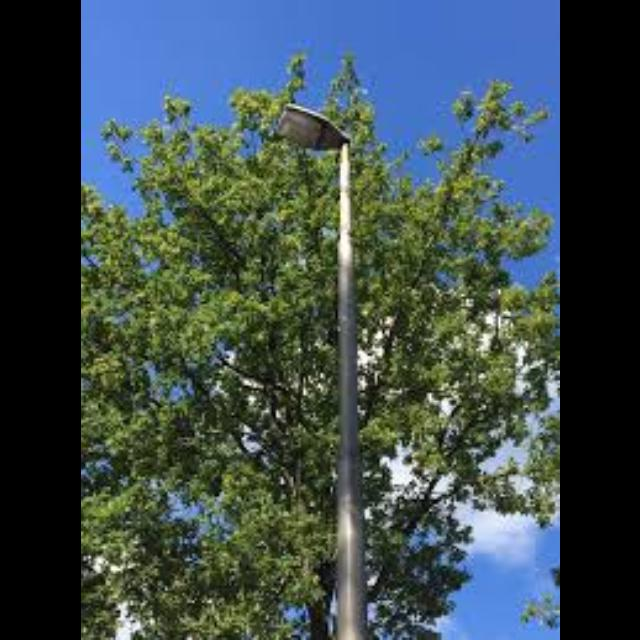Street-Lamp: (267, 96, 378, 640)
